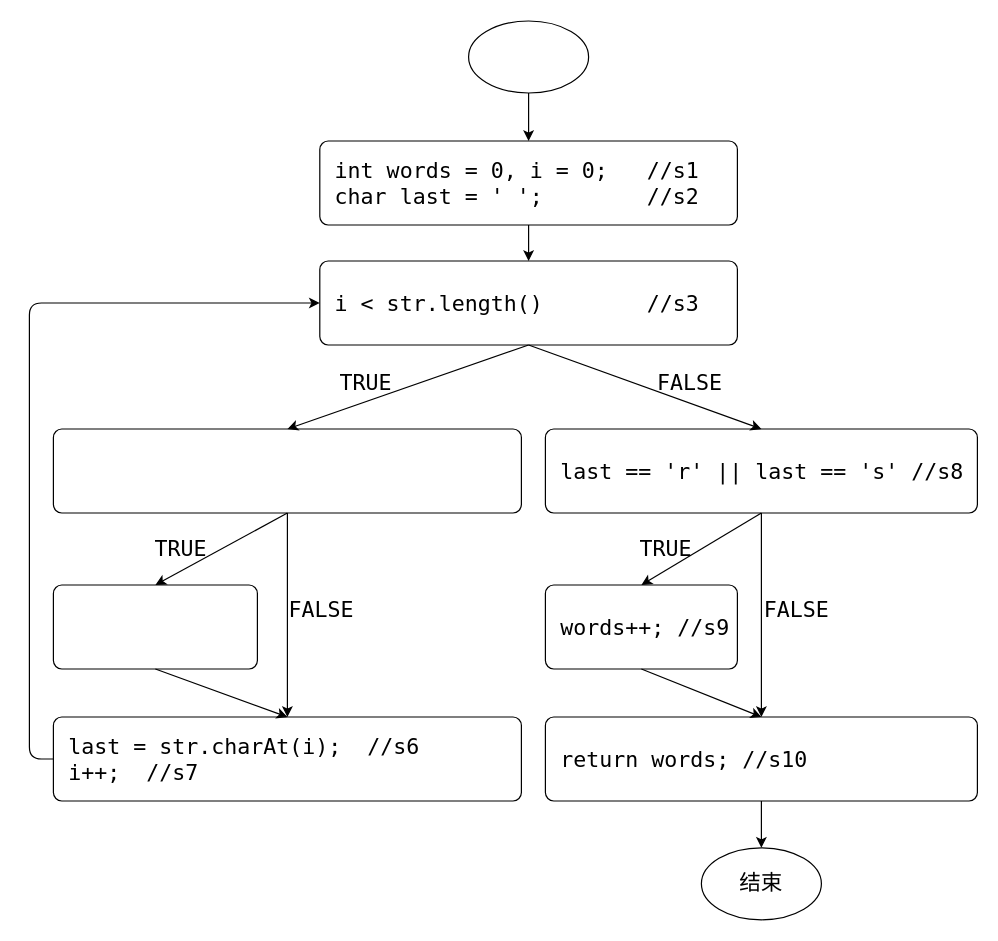
Some shapes in this 998 by 941 pixel diagram are drawn without their labels. Here are the shapes that lost their labels. From the top down, the centre of each, then its label:
(x=528, y=56): 开始
(x=286, y=470): !isLetter(str.charAt(i)) && (last == 's' || last == 'r') //s4
(x=154, y=626): words++; //s5
